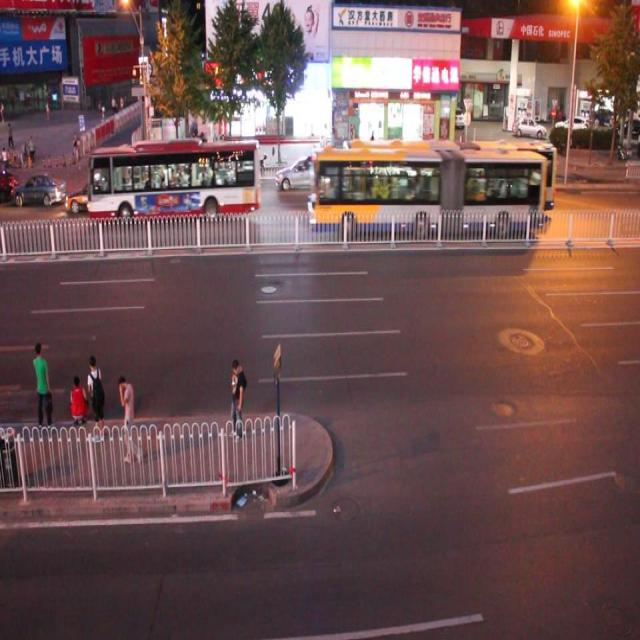car: (498, 161, 550, 208), (192, 157, 239, 204), (278, 152, 331, 193), (67, 175, 116, 216), (14, 174, 66, 209), (1, 165, 18, 201)
van: (308, 150, 545, 239), (341, 136, 554, 212), (86, 142, 261, 218)
